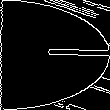L_W: (4, 39, 106, 71)
